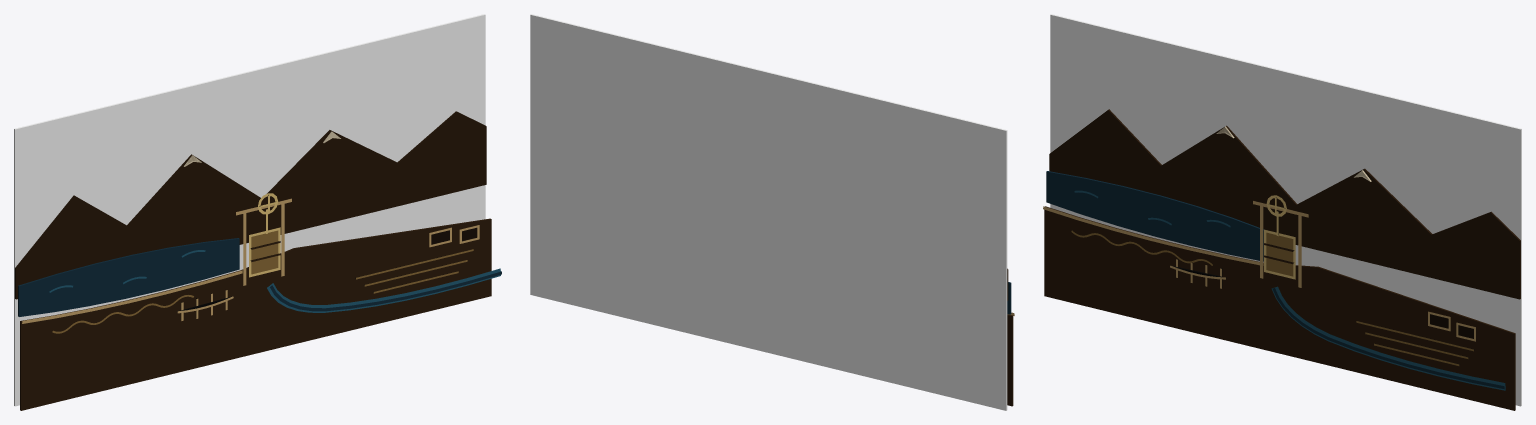
The model's file is loc-plotina.glb.
The picture shows the model from 3 angles, left to right: view 1: azimuth 30°, elevation 25°; view 2: azimuth 150°, elevation 25°; view 3: azimuth 330°, elevation 25°; orthographic projection.
Parts seen in each view (by area): view 1: loc-plotina; view 2: loc-plotina; view 3: loc-plotina.
Boxes of the visible parts, box(x1,y1,x2,y2) form: loc-plotina: box(14, 14, 501, 410); loc-plotina: box(530, 14, 1014, 410); loc-plotina: box(1043, 14, 1521, 410).
Bounding box in the file's own units: 5.34 × 3 × 0.441.
